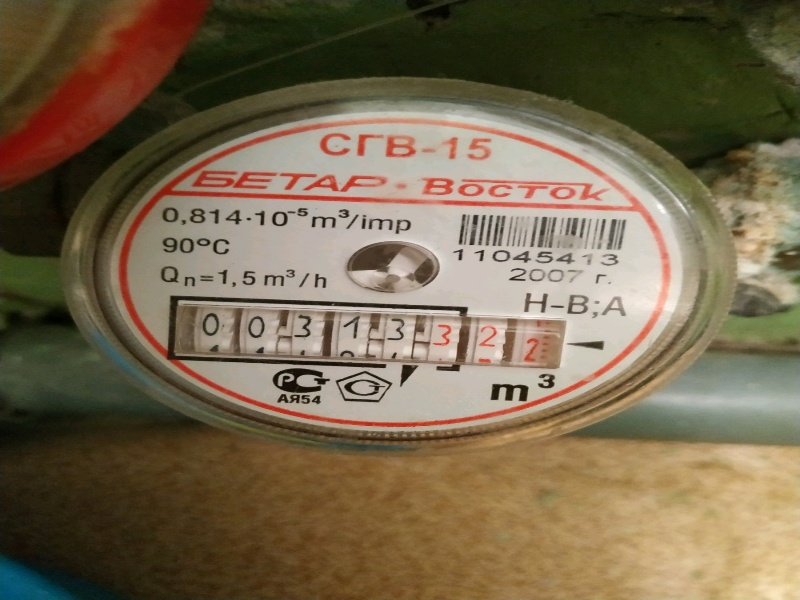meter: (186, 297, 552, 373)
